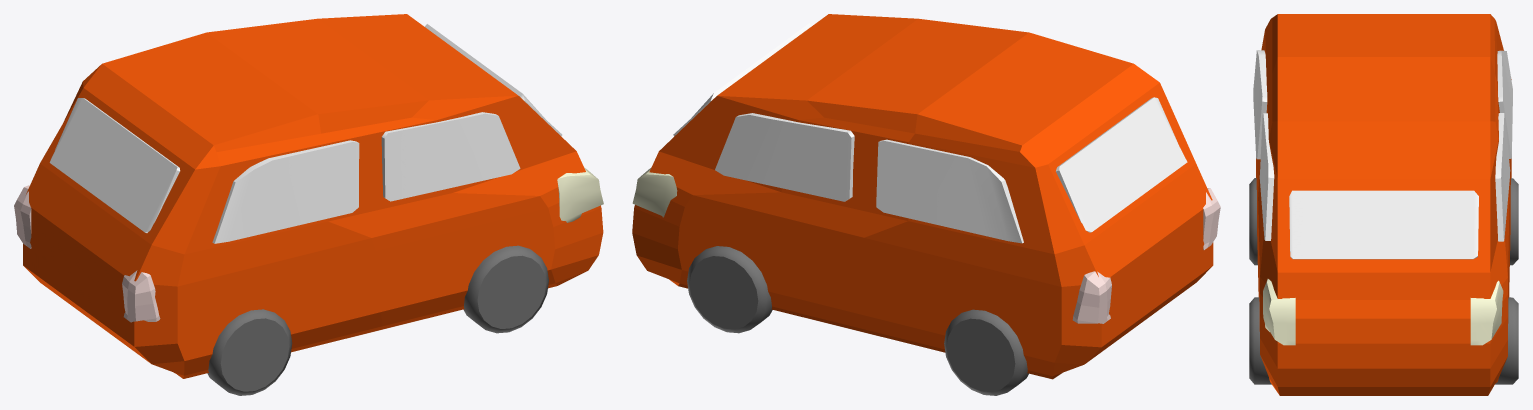
The model's file is CarroRojo.fbx.
The picture shows the model from 3 angles, left to right: view 1: azimuth 30°, elevation 25°; view 2: azimuth 150°, elevation 25°; view 3: azimuth 270°, elevation 25°; orthographic projection. The views are drawn at different scales.
Parts seen in each view (by area): view 1: pCube1, pCube7, pCube10, pCube8, pCylinder1, pCylinder2, pCube11, pCube9, pCube6; view 2: pCube1, pCube4, pCube10, pCube12, pCylinder3, pCylinder4, pCube11, pCube9, pCube6; view 3: pCube1, pCube6, pCube9, pCube12, pCube8, pCube4, pCube7, pCylinder1, pCylinder3, pCylinder4, pCylinder2.
Boxes of the visible parts, x1=… form: pCube1: x1=23, y1=14, x2=603, y2=378; pCube7: x1=212, y1=140, x2=359, y2=243; pCube10: x1=49, y1=98, x2=180, y2=232; pCube8: x1=381, y1=112, x2=520, y2=201; pCylinder1: x1=463, y1=245, x2=548, y2=333; pCylinder2: x1=207, y1=309, x2=292, y2=395; pCube11: x1=14, y1=185, x2=160, y2=322; pCube9: x1=557, y1=168, x2=603, y2=222; pCube6: x1=425, y1=24, x2=562, y2=136; pCube1: x1=632, y1=14, x2=1213, y2=379; pCube4: x1=876, y1=139, x2=1023, y2=243; pCube10: x1=1056, y1=97, x2=1187, y2=232; pCube12: x1=715, y1=113, x2=854, y2=201; pCylinder3: x1=687, y1=246, x2=772, y2=333; pCylinder4: x1=944, y1=309, x2=1028, y2=395; pCube11: x1=1072, y1=188, x2=1220, y2=323; pCube9: x1=632, y1=168, x2=677, y2=217; pCube6: x1=673, y1=23, x2=811, y2=136; pCube1: x1=1256, y1=14, x2=1511, y2=395; pCube6: x1=1289, y1=190, x2=1478, y2=259; pCube9: x1=1263, y1=279, x2=1503, y2=345; pCube12: x1=1495, y1=113, x2=1510, y2=241; pCube8: x1=1259, y1=113, x2=1274, y2=240; pCube4: x1=1497, y1=50, x2=1512, y2=158; pCube7: x1=1253, y1=50, x2=1267, y2=159; pCylinder1: x1=1249, y1=297, x2=1271, y2=384; pCylinder3: x1=1495, y1=297, x2=1518, y2=384; pCylinder4: x1=1510, y1=178, x2=1518, y2=265; pCylinder2: x1=1249, y1=178, x2=1257, y2=265.
Bounding box in the file's own units: 21.46 × 10.94 × 11.09.
